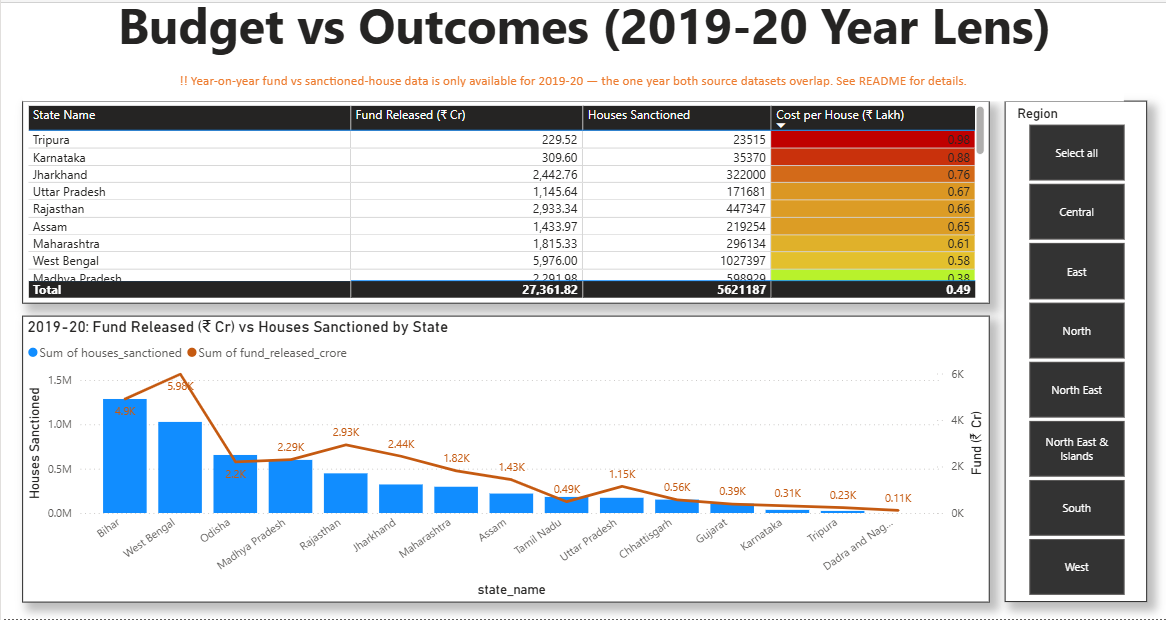

The dashboard page shown, as its layout file describes it:
{"tool":"powerbi","page":{"name":"Budget vs Outcomes (2019-20 Year Lens)","canvas":[1280,720],"ordinal":2},"visuals":[{"type":"textbox","box":[23.3,26.9,1233.1,87.8],"z":0},{"type":"tableEx","fields":{"Values":["pmay_g_yearly_kpis.state_name","Sum(pmay_g_yearly_kpis.fund_released_crore)","Sum(pmay_g_yearly_kpis.houses_sanctioned)","pmay_g_yearly_kpis.Cost per House (₹ Lakh)2"]},"box":[23.3,152.2,1061.2,222.1],"z":1000},{"type":"slicer","fields":{"Values":["state_level_summary.Region"]},"box":[1100.6,152.2,155.8,549.9],"z":2000},{"type":"textbox","box":[23.3,114.6,1208.1,37.6],"z":3000},{"type":"lineClusteredColumnComboChart","title":"2019-20: Fund Released (₹ Cr) vs Houses Sanctioned by State","fields":{"Category":["pmay_g_yearly_kpis.state_name"],"Y":["Sum(pmay_g_yearly_kpis.houses_sanctioned)"],"Y2":["Sum(pmay_g_yearly_kpis.fund_released_crore)"]},"box":[23,387.6,1061.1,314.2],"z":4000}]}

Visuals, with their boxes on the page's 1280x720 design canvas (x1, y1, x2, y2). These are canvas units, not pixel positions in the 1166x620 screenshot, which may show the page scaled, cropped or inside an application window:
textbox: 23, 27, 1256, 115
tableEx - pmay_g_yearly_kpis.state_name x Sum(pmay_g_yearly_kpis.fund_released_crore): 23, 152, 1084, 374
slicer - state_level_summary.Region: 1101, 152, 1256, 702
textbox: 23, 115, 1231, 152
"2019-20: Fund Released (₹ Cr) vs Houses Sanctioned by State" lineClusteredColumnComboChart: 23, 388, 1084, 702
